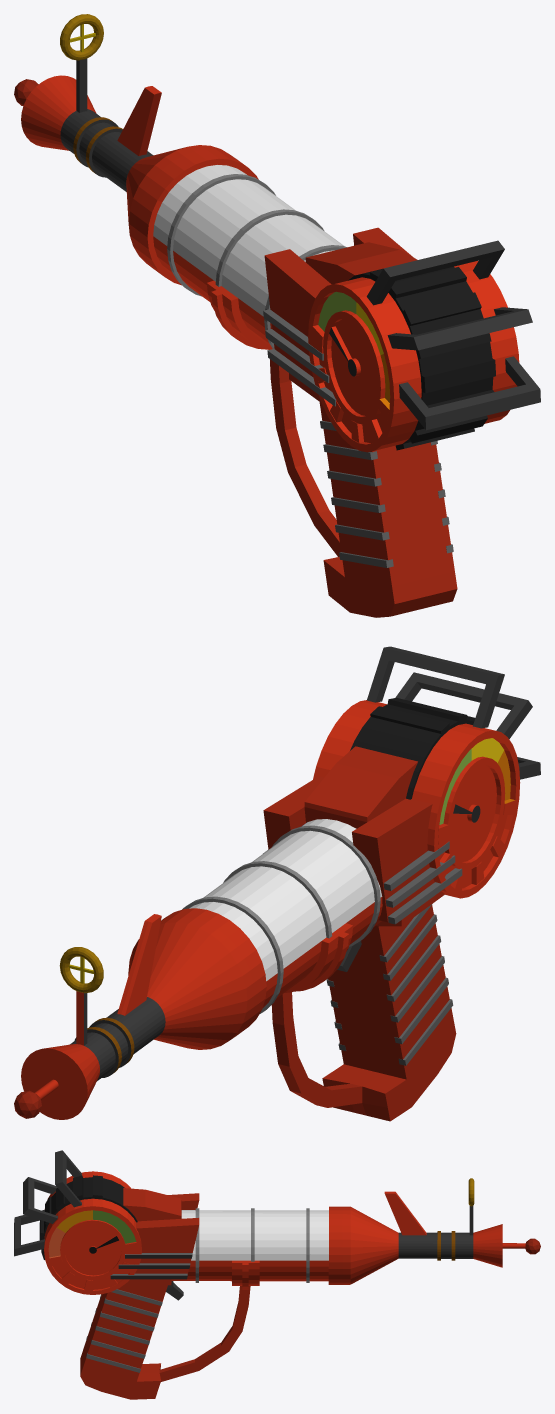
Rendered from raygun.fbx.
3 renders of one model, top to bottom at view 1: azimuth 30°, elevation 25°; view 2: azimuth 150°, elevation 25°; view 3: azimuth 270°, elevation 25°, orthographic. The views are drawn at different scales.
Parts seen in each view (by area): view 1: Cube; view 2: Cube; view 3: Cube.
Boxes of the visible parts, left/top/right/bottom form: Cube: left=14, top=14, right=540, bottom=617; Cube: left=14, top=646, right=540, bottom=1121; Cube: left=14, top=1150, right=540, bottom=1399.
Bounding box in the file's own units: 246 × 698 × 1484.
2 materials, 1 textured.
